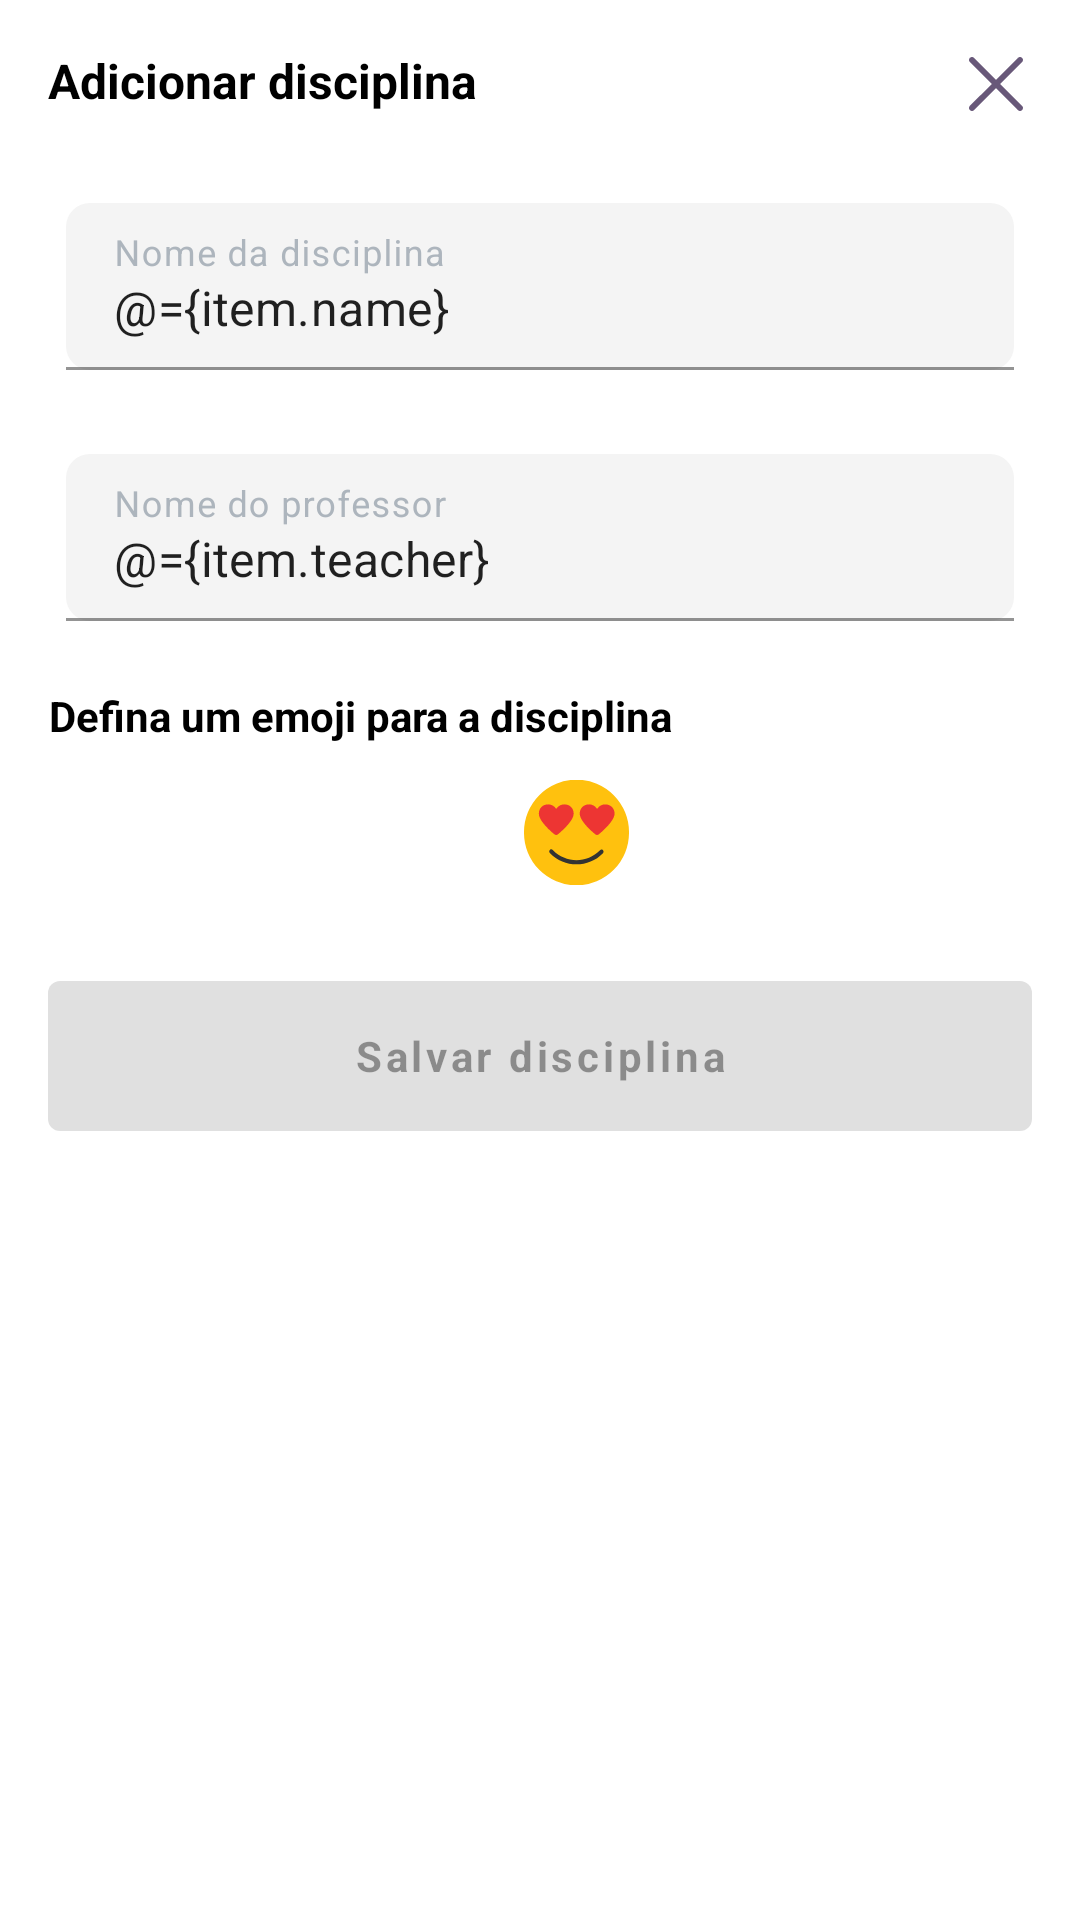

Where to tap for icons on this 1080*1920 app screen, as (x=x, y=y):
close: (x=996, y=84)
